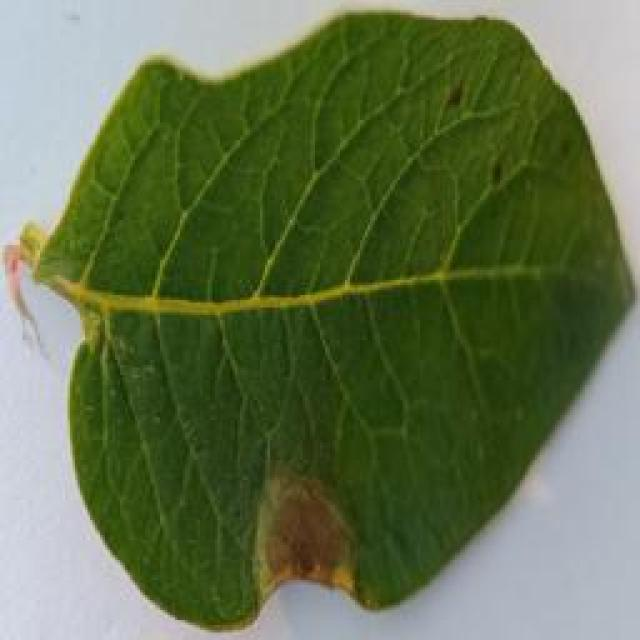Potato_Late_Blight: (7, 10, 631, 638)
